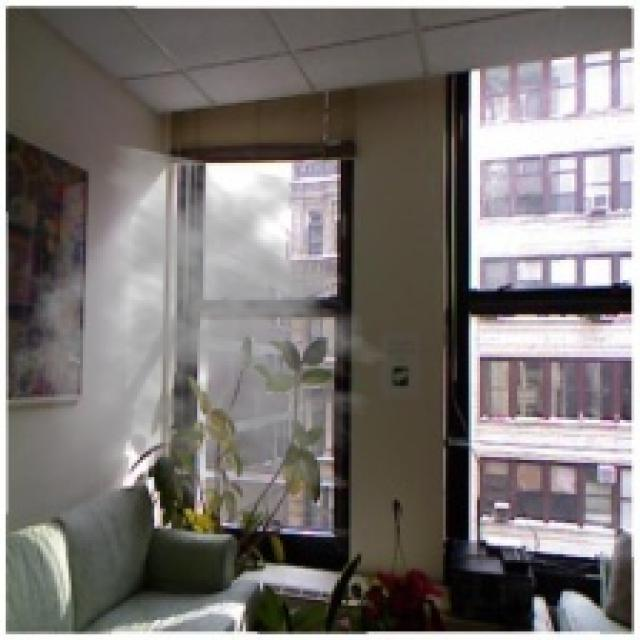smoke: (8, 143, 406, 526)
